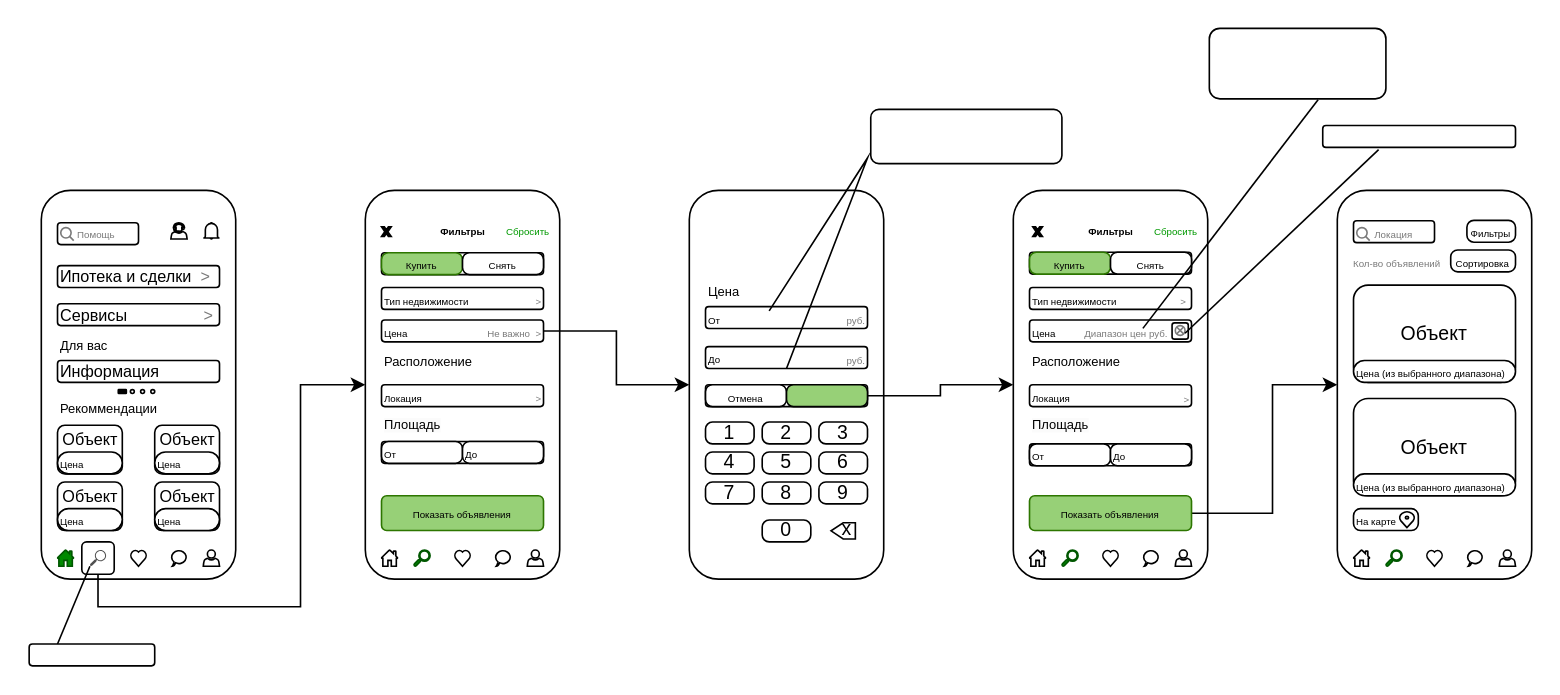
This 1560x695 diagram has some shape labels left out. The shapes that lost their labels are listed below. From the top down, each one's centre as x and y in pixels, then its label:
the point at 1297,63: Отображение установленного диапазона цен
the point at 965,136: Поля для установления диапазона цен
the point at 1418,135: Кнопка "Сбросить цену"
the point at 826,395: Сохранить
the point at 91,654: Кнопка "Поиск"
